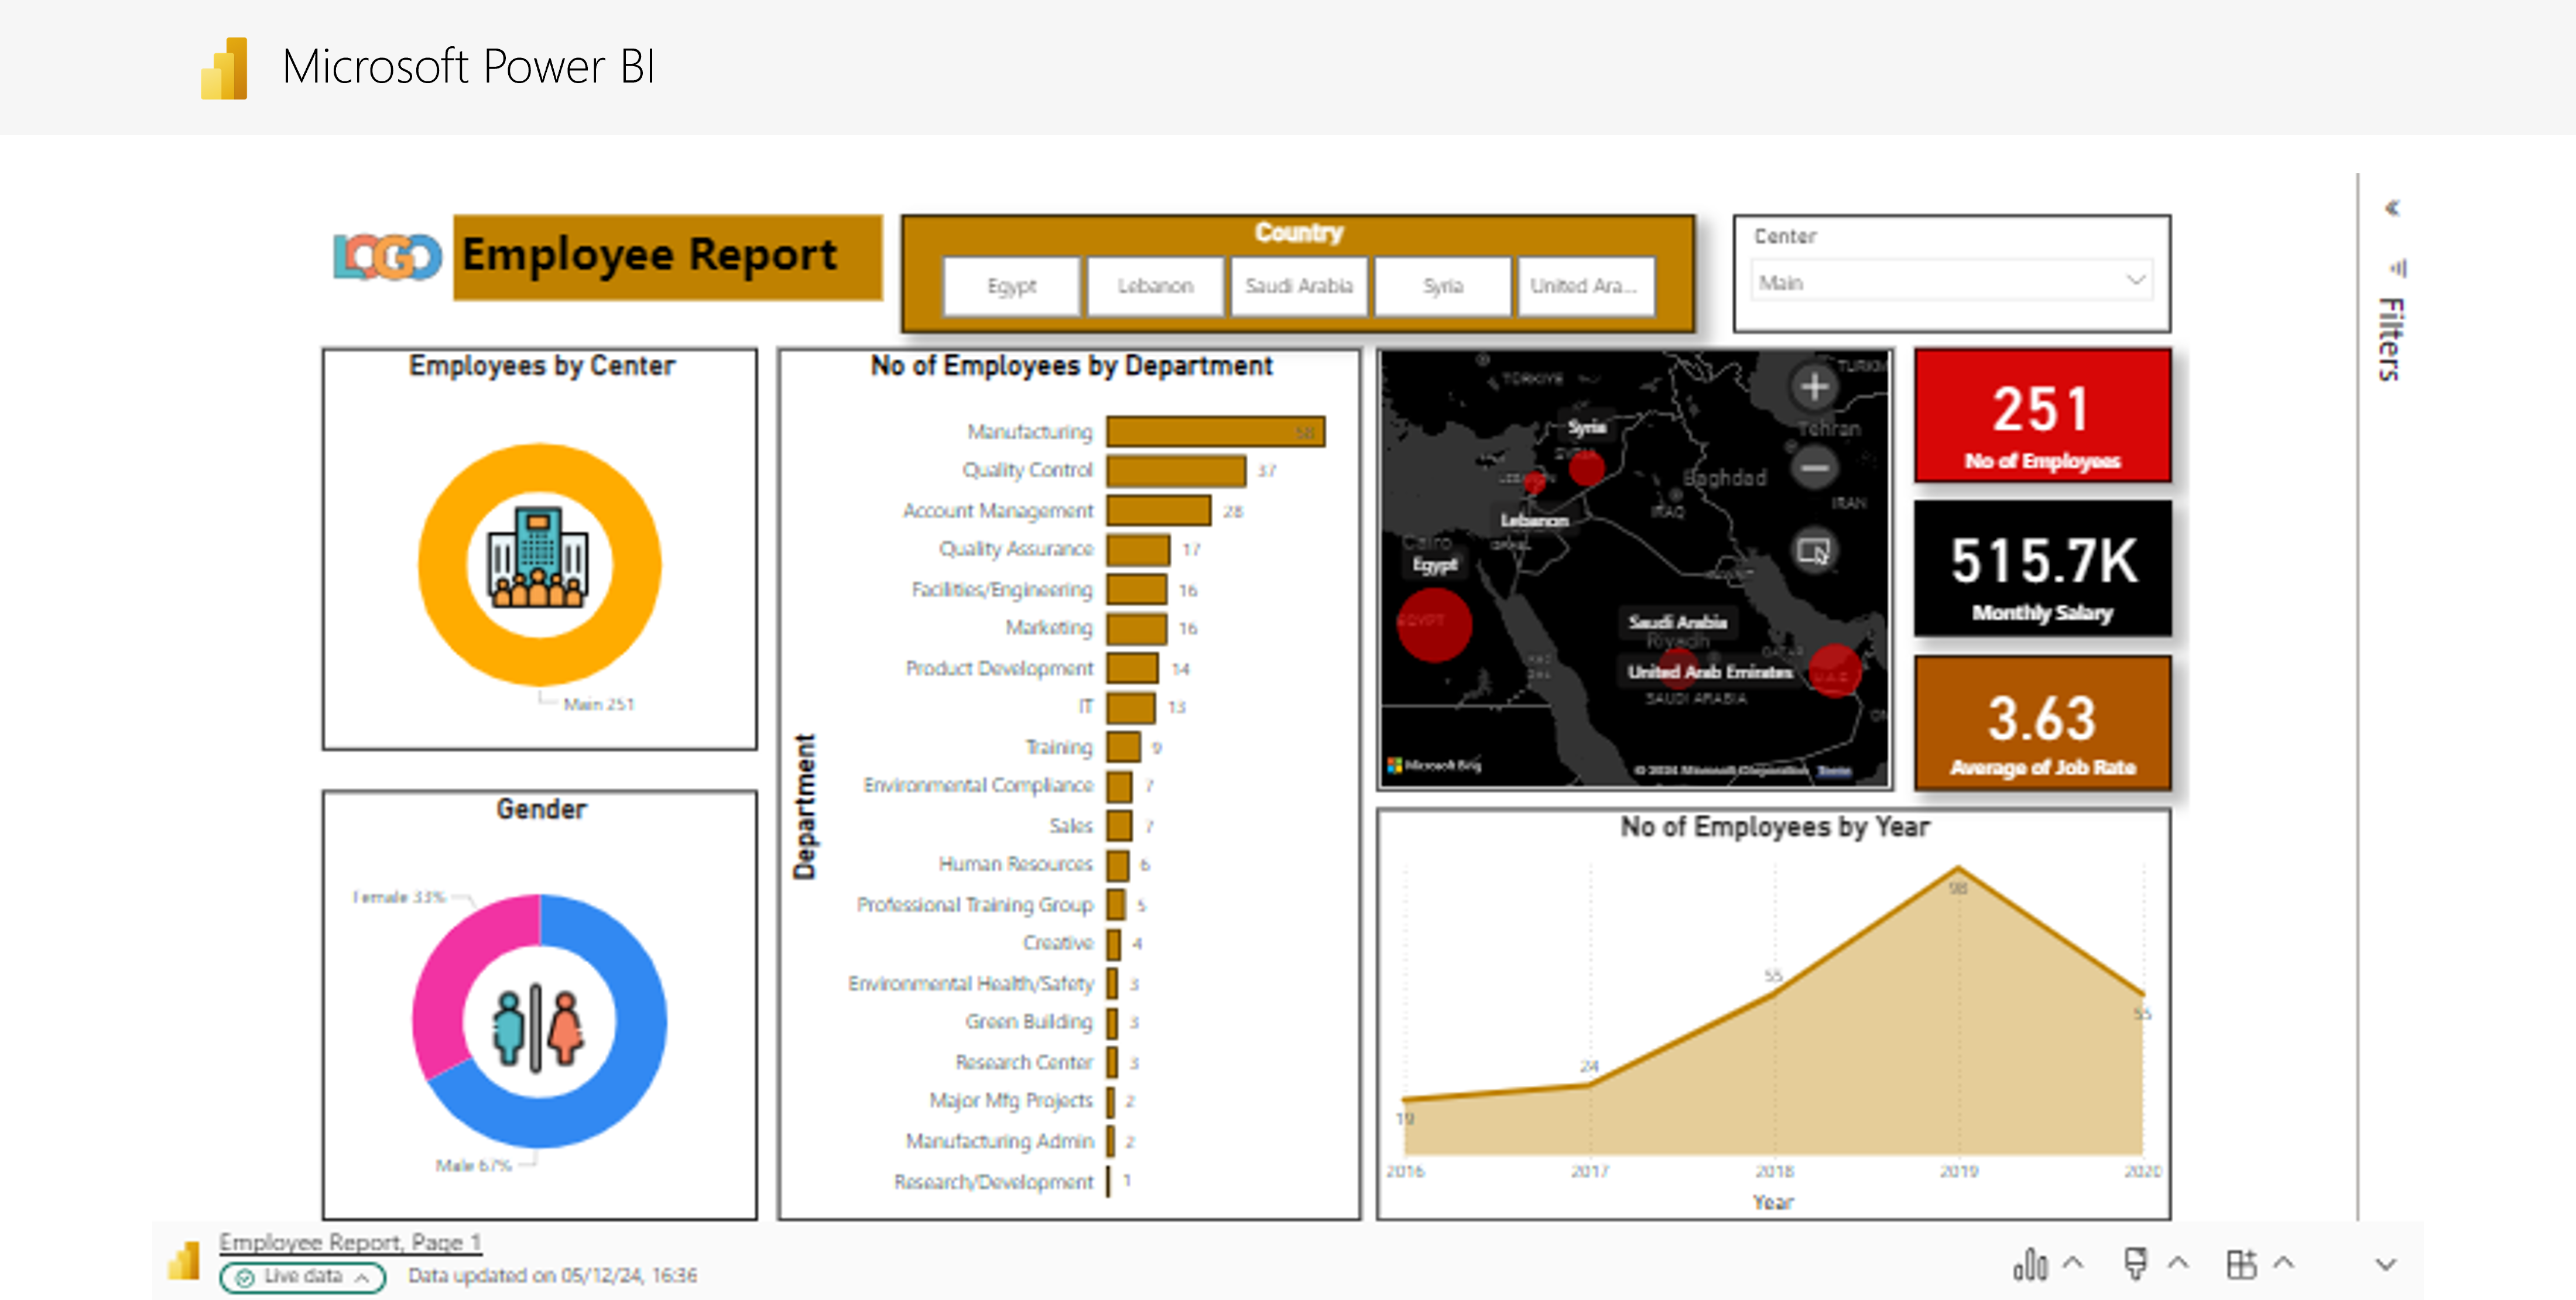

The page's visual inventory and layout, read from the dashboard file:
{"tool":"powerbi","page":{"name":"Page 1","canvas":[1280,720],"ordinal":0},"visuals":[{"type":"clusteredBarChart","title":"No of Employees by Department","fields":{"Category":["EmpTable.Department"],"Y":["CountNonNull(EmpTable.No)"]},"box":[312.2,119.5,400.3,600.5],"z":0},{"type":"donutChart","title":"Employees by Center","fields":{"Category":["EmpTable.Center"],"Y":["CountNonNull(EmpTable.No)"]},"box":[0,119.5,298.8,276.3],"z":1000},{"type":"donutChart","title":"Gender","fields":{"Category":["EmpTable.Gender"],"Y":["CountNonNull(EmpTable.Gender)"]},"box":[0,424.2,298.8,295.8],"z":2000},{"type":"map","fields":{"Category":["EmpTable.Country"],"Size":["CountNonNull(EmpTable.No)"]},"box":[723,119.5,354,304.7],"z":3000},{"type":"areaChart","title":"No of Employees by Year","fields":{"Category":["EmpTable.Start Date.Variation.Date Hierarchy.Year","EmpTable.Start Date.Variation.Date Hierarchy.Quarter","EmpTable.Start Date.Variation.Date Hierarchy.Month","EmpTable.Start Date.Variation.Date Hierarchy.Day"],"Y":["CountNonNull(EmpTable.No)"]},"box":[723,436.2,543.7,283.8],"z":4000},{"type":"card","fields":{"Values":["CountNonNull(EmpTable.No)"]},"box":[1090.5,119.5,176.3,92.6],"z":5000},{"type":"card","fields":{"Values":["Sum(EmpTable.Monthly Salary)"]},"box":[1090.5,225.6,176.3,92.6],"z":6000},{"type":"card","fields":{"Values":["Avg(EmpTable.Job Rate)"]},"box":[1090.5,331.6,176.3,92.6],"z":7000},{"type":"slicer","title":"Country","fields":{"Values":["EmpTable.Country"]},"box":[397.3,28.4,543.7,80.7],"z":8000},{"type":"slicer","fields":{"Values":["EmpTable.Center"]},"box":[966.5,28.4,300.2,80.7],"z":8001},{"type":"image","box":[0,17.9,89.6,80.7],"z":8002},{"type":"textbox","box":[89.6,28.4,294.3,58.3],"z":8003},{"type":"image","box":[113.5,552.7,71.7,71.7],"z":8004},{"type":"image","box":[109,225.6,79.2,79.2],"z":8005}]}

Visuals, with their boxes on the page's 1280x720 design canvas (x1, y1, x2, y2). These are canvas units, not pixel positions in the 2576x1300 screenshot, which may show the page scaled, cropped or inside an application window:
"No of Employees by Department" clusteredBarChart: (312,120,712,720)
"Employees by Center" donutChart: (0,120,299,396)
"Gender" donutChart: (0,424,299,720)
map - EmpTable.Country x CountNonNull(EmpTable.No): (723,120,1077,424)
"No of Employees by Year" areaChart: (723,436,1267,720)
card - CountNonNull(EmpTable.No): (1090,120,1267,212)
card - Sum(EmpTable.Monthly Salary): (1090,226,1267,318)
card - Avg(EmpTable.Job Rate): (1090,332,1267,424)
"Country" slicer: (397,28,941,109)
slicer - EmpTable.Center: (966,28,1267,109)
image: (0,18,90,99)
textbox: (90,28,384,87)
image: (114,553,185,624)
image: (109,226,188,305)
